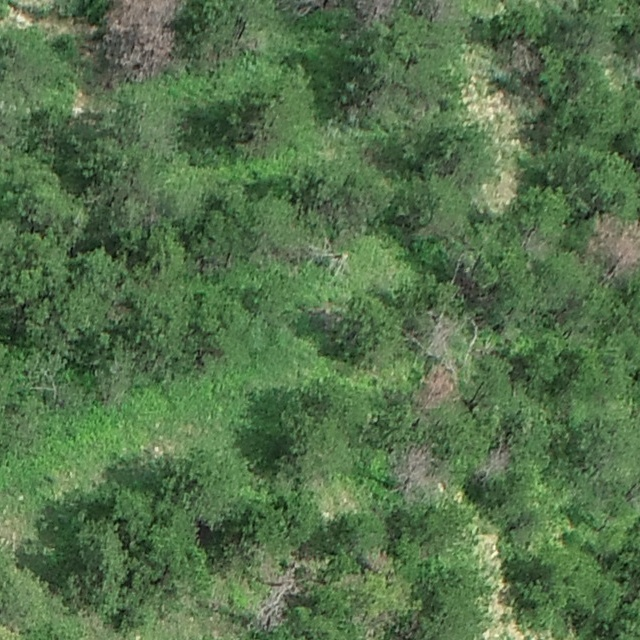unhealthy: (108, 0, 183, 79), (588, 212, 639, 276), (255, 565, 296, 631), (390, 442, 440, 493), (416, 361, 460, 407), (478, 441, 514, 479), (425, 312, 458, 352), (507, 37, 540, 76), (279, 0, 340, 16), (352, 0, 399, 20), (363, 547, 393, 572)
